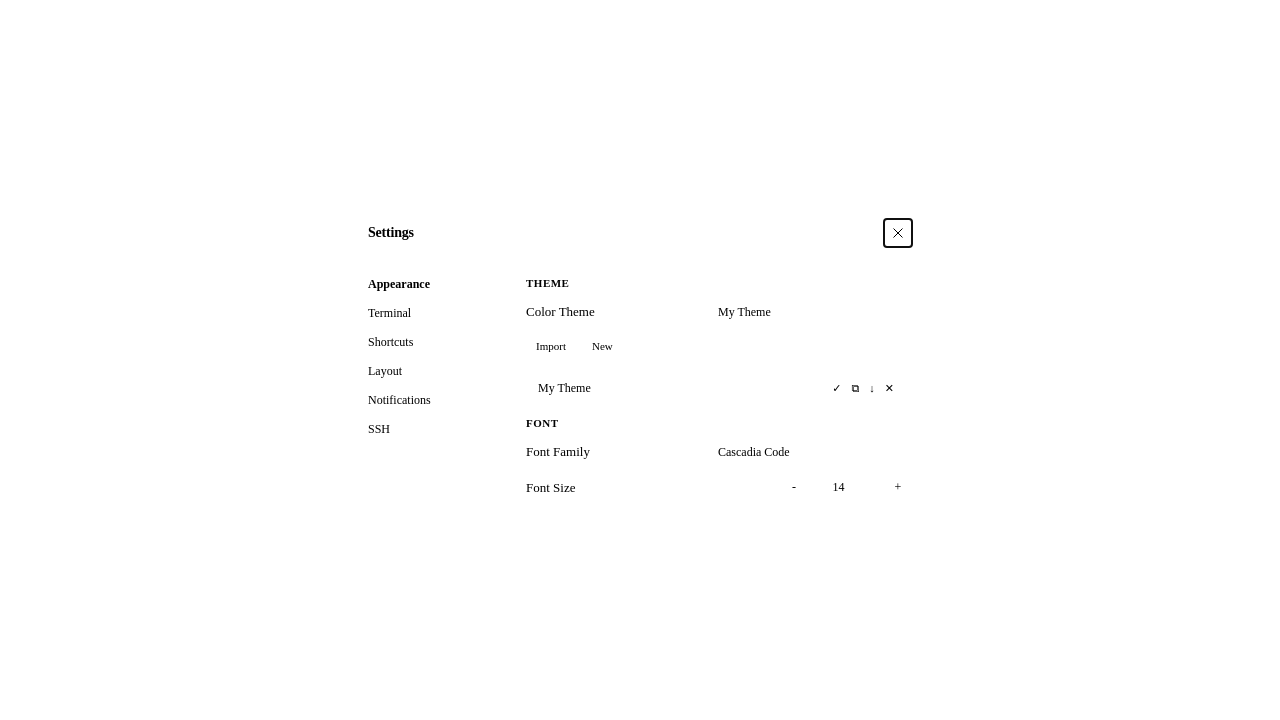
Test: SettingsModal › ThemeEditor appears with custom themes
Click the element showing "My Theme ✓ ⧉ ↓ ✕" at (564, 388), box [530,376,906,400]
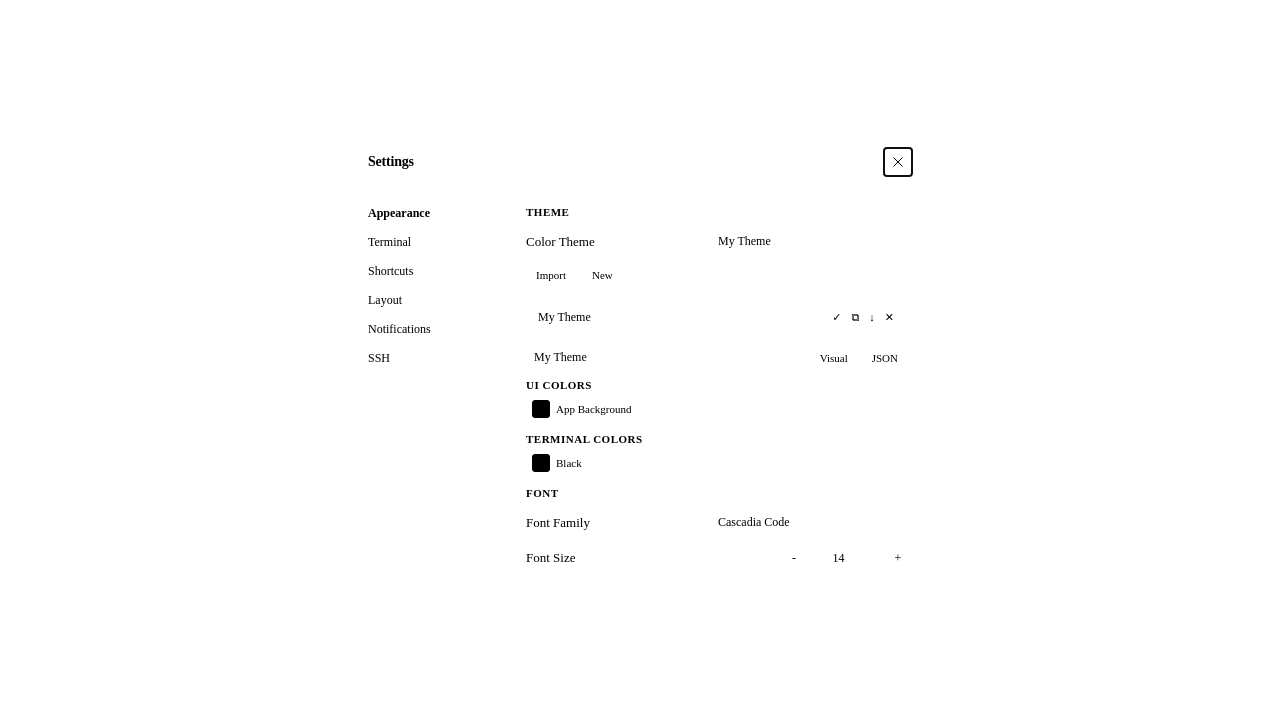
Check: the text "App Background" is shown, box [556,403,632,415]
